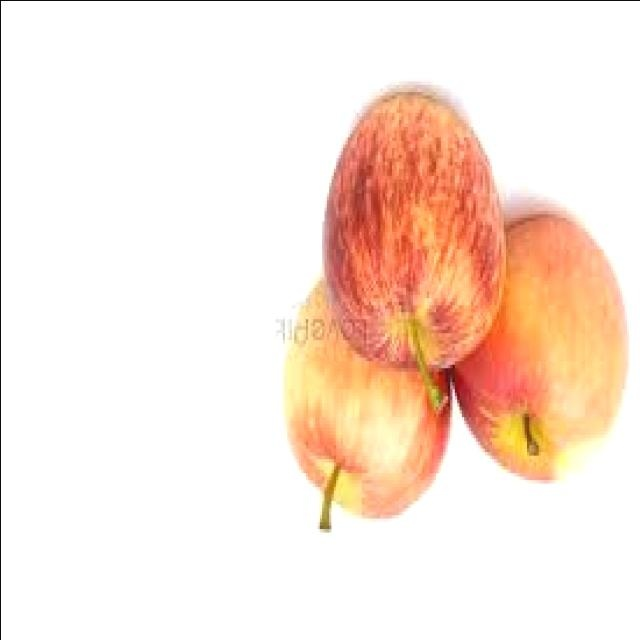agrume: (242, 248, 466, 540), (451, 189, 640, 513), (311, 109, 529, 389)
